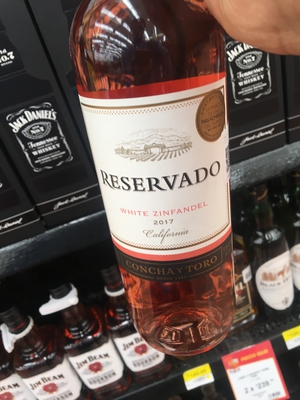reservado white zinfandel: (71, 6, 249, 340)
